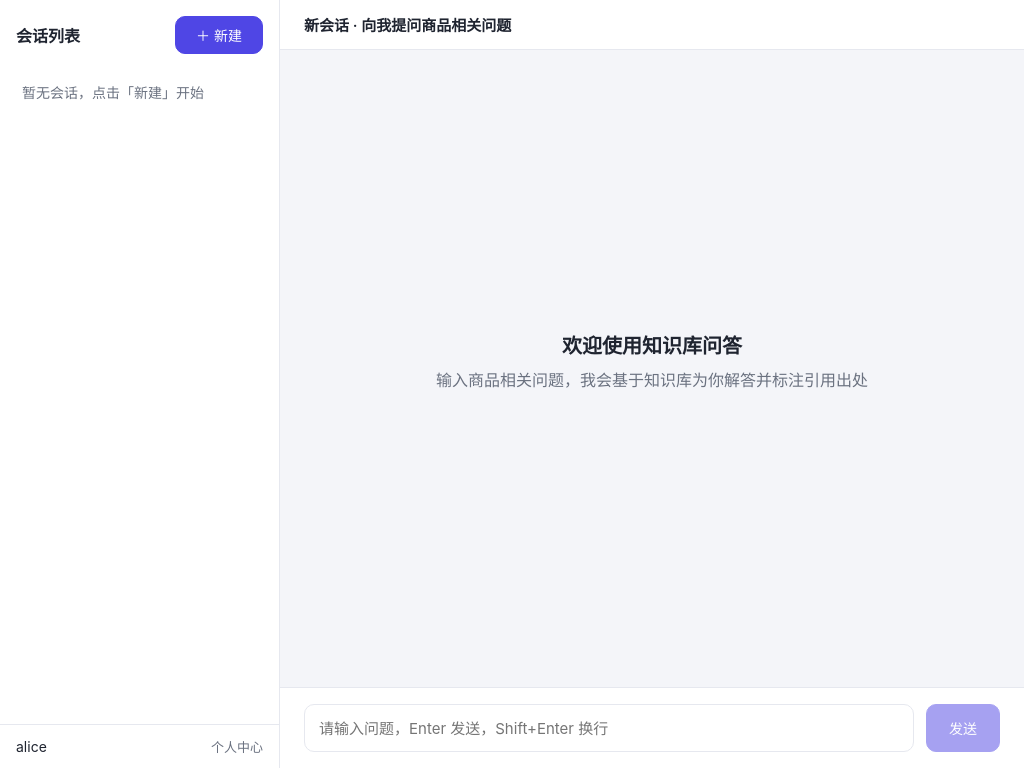
Test: ChatPage 流式问答 › 401 时先刷新令牌再重试，不直接跳登录
The image size is (1024, 768).
Expected: the heading "欢迎使用知识库问答" is shown, [562,330,742,359]
In the text box: (609, 728) [304,704,914,752], type "问题"
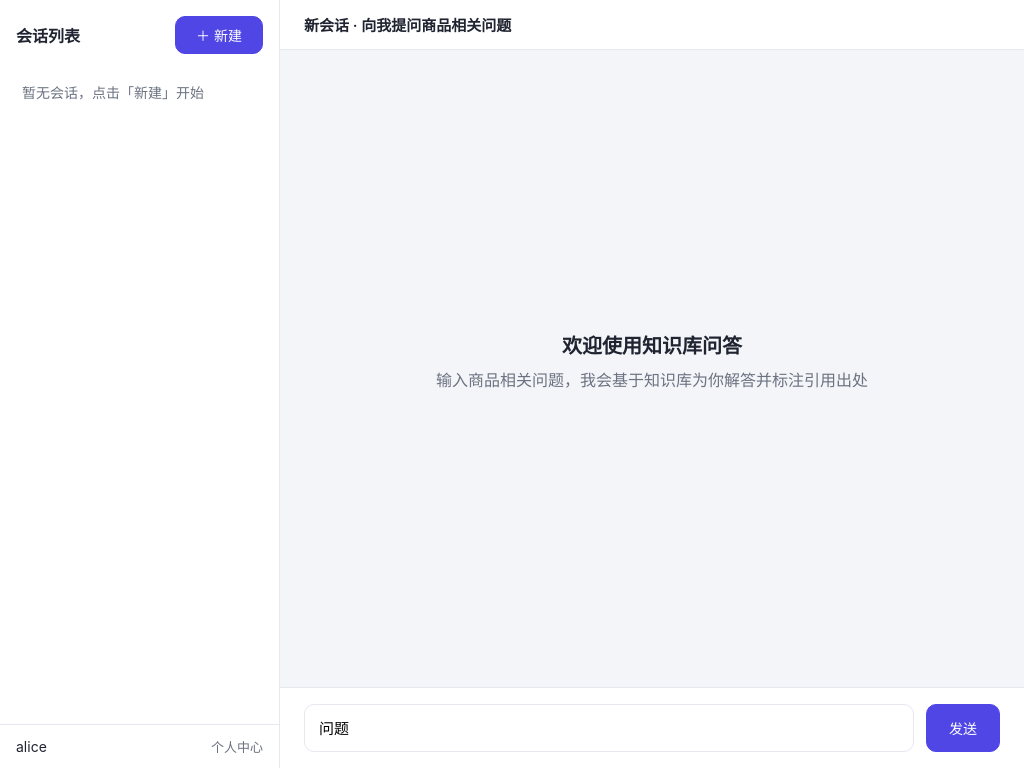
Click the button "发送": click(963, 728) [926,704,1000,752]
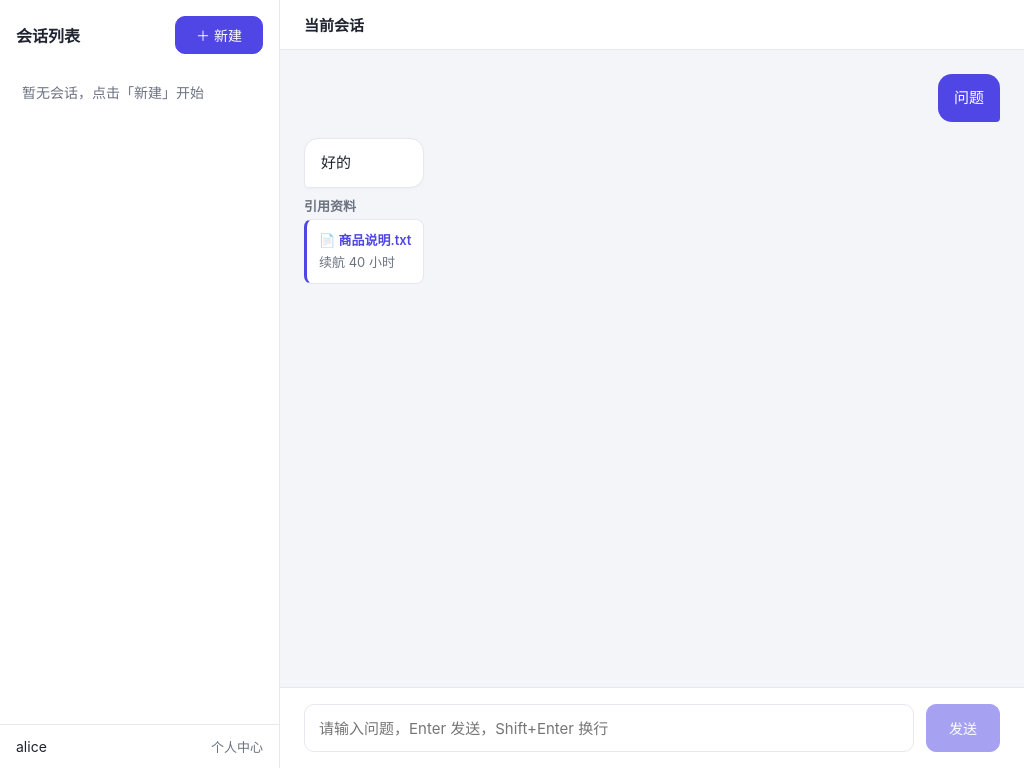
Result: the text "好的" is shown at [321,153,351,172]
